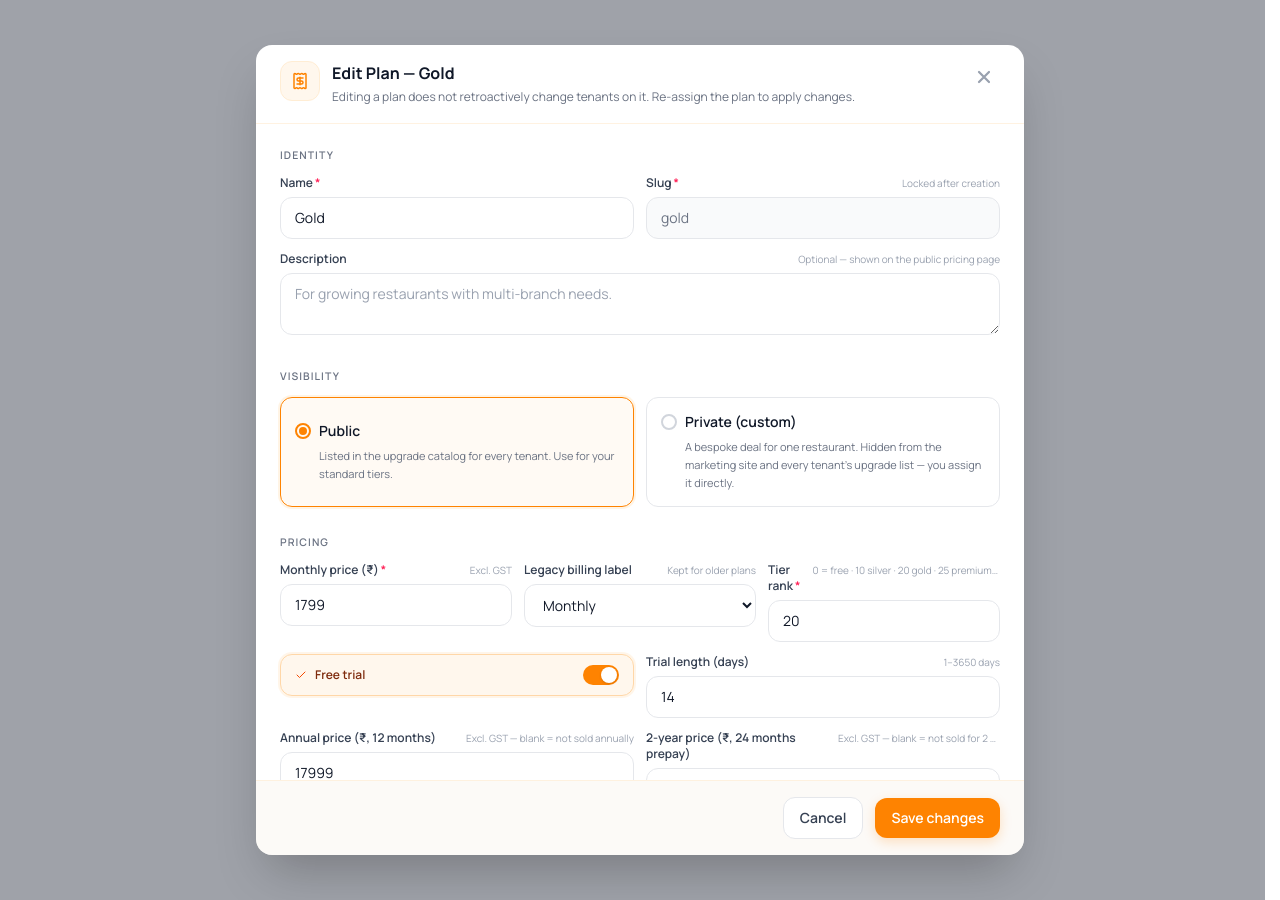
Test case: PlanFormModal cycle prices › annual must be less than 12 x monthly - blocks the save
expect the 4th number field holds "17999": met, box [280,752,634,780]
Step 1. Replace the text in the 4th number field with "21588" → (457, 773), box [280,752,634,794]
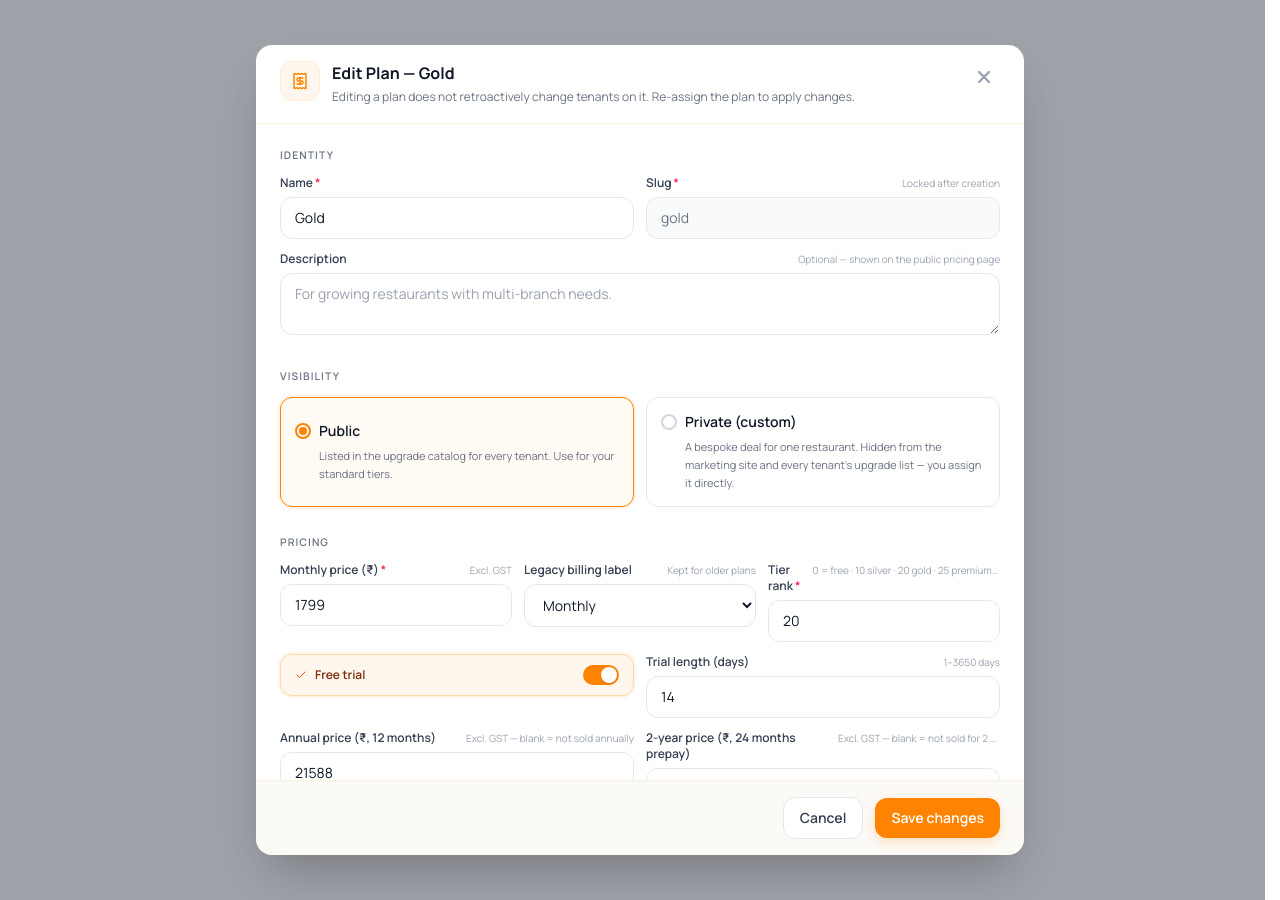
Step 2. Click the button "Save changes" → (938, 818), box [875,798,1000,838]
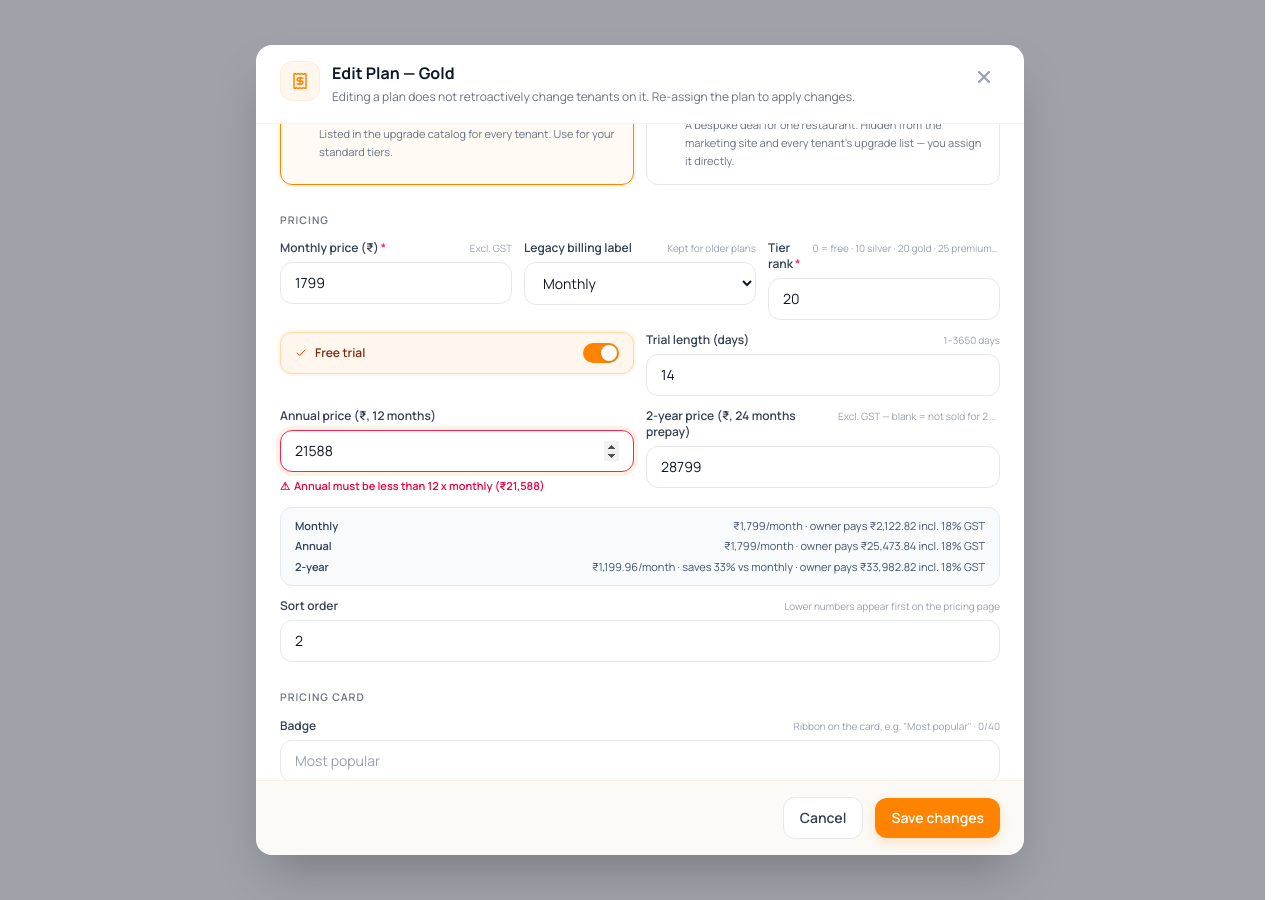
expect the text "⚠ Annual must be less than 12 x monthly (₹21,588)" is shown: met, box [280,478,545,493]
